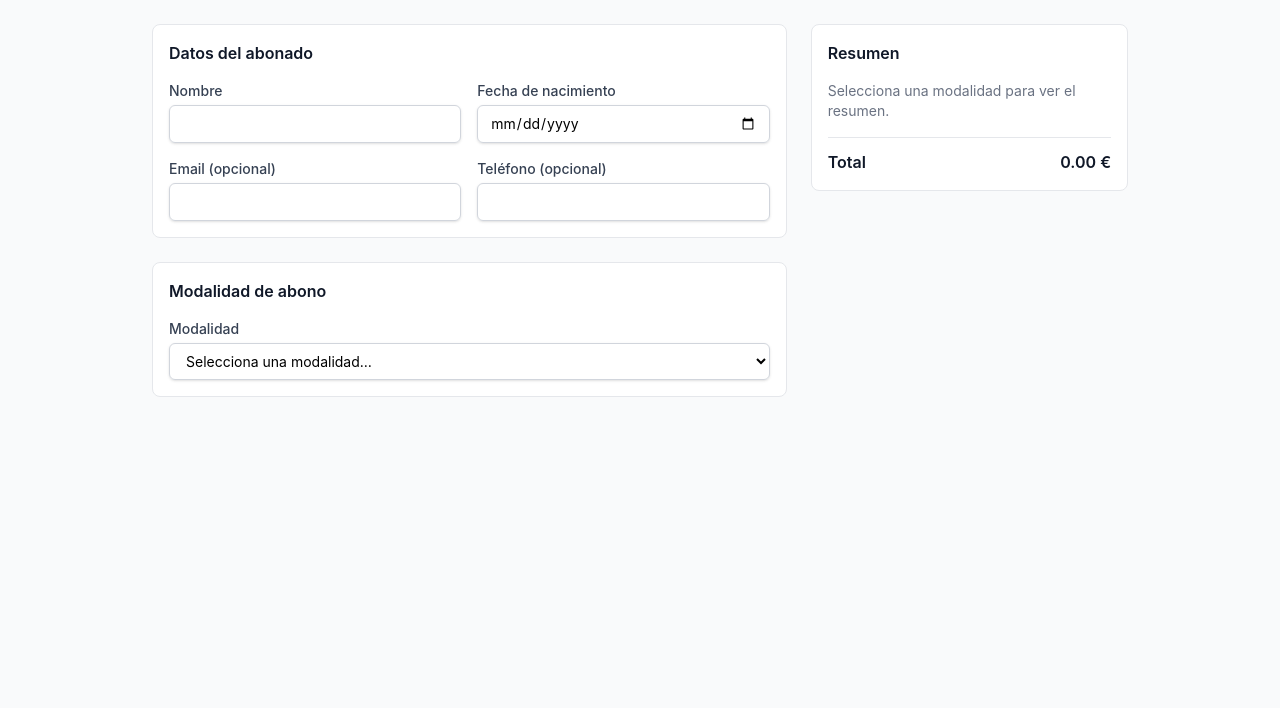
Test: QuoteForm (integración) › sumar un extra al caso dorado actualiza el total general
This screenshot has width=1280, height=708.
Select "Golf Son Muntaner (SM) — 4400 €" in the dropdown labelled "Modalidad" at [469, 362], box left=169, top=343, right=770, bottom=380
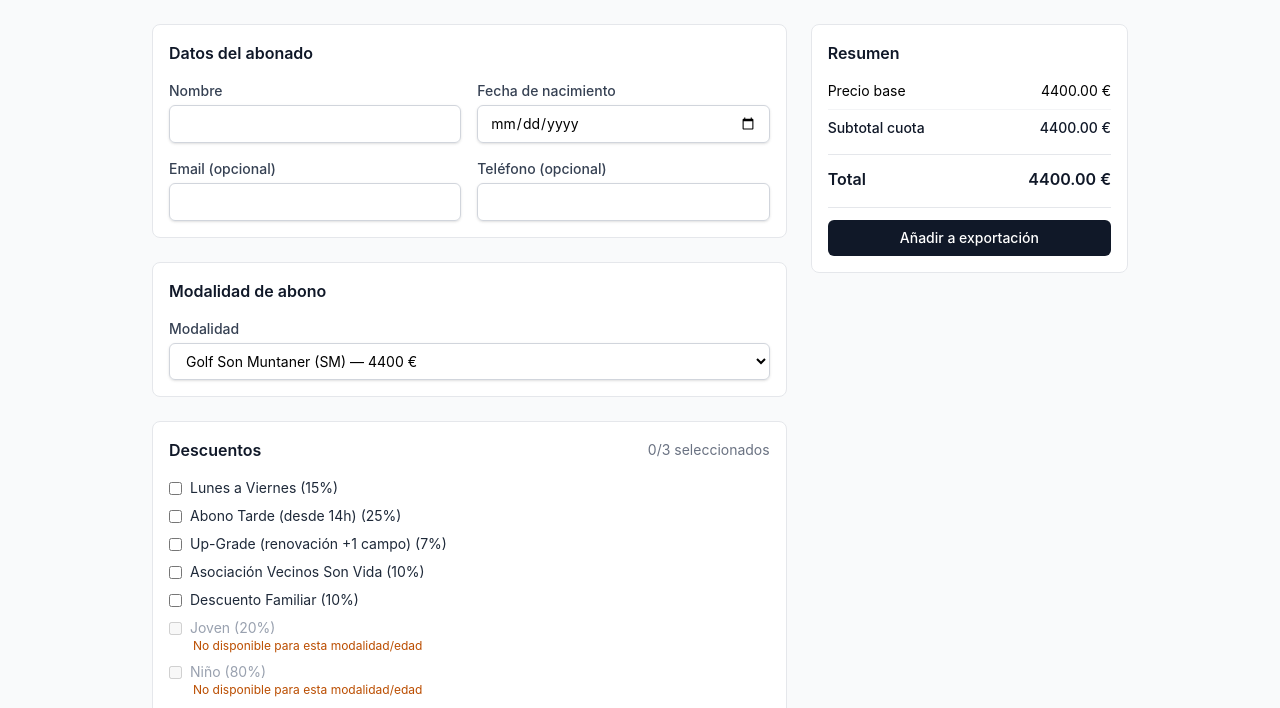
Click the checkbox labelled "Lunes a Viernes (15%)".
click(176, 488)  # box left=169, top=482, right=182, bottom=494
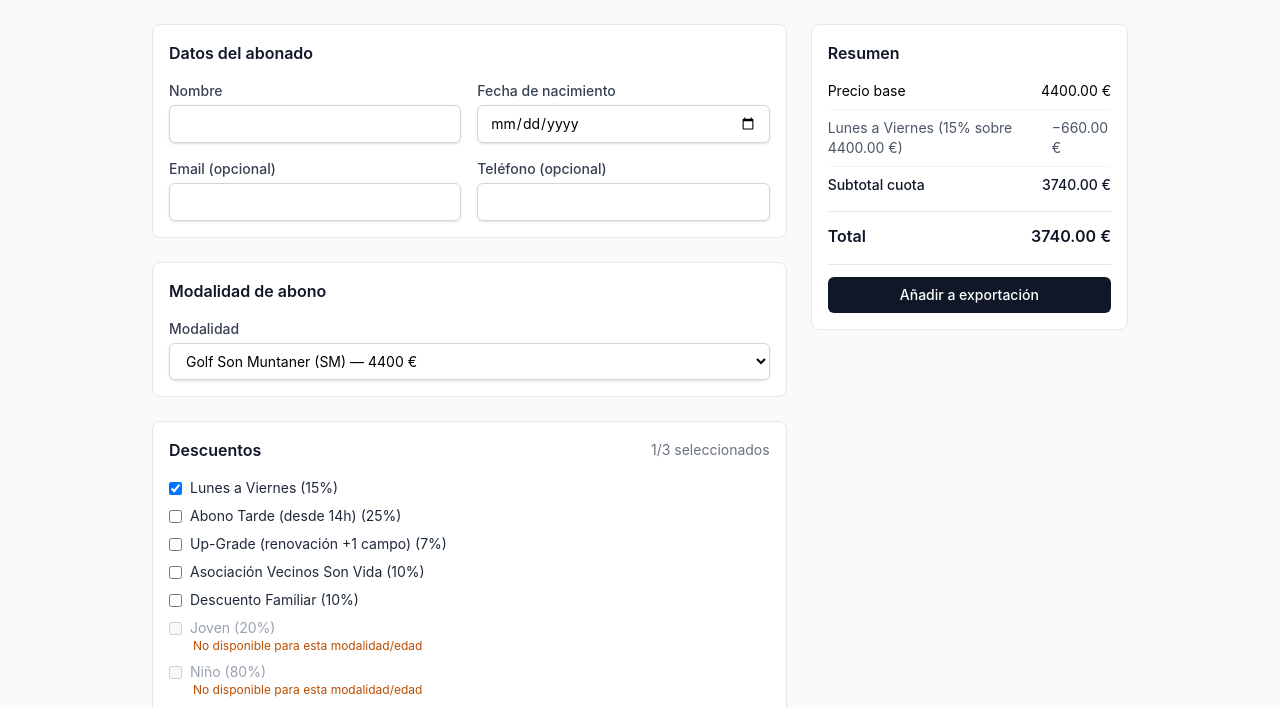
Click the checkbox labelled "Abono Tarde (desde 14h) (25%)".
click(176, 516)  # box left=169, top=510, right=182, bottom=522
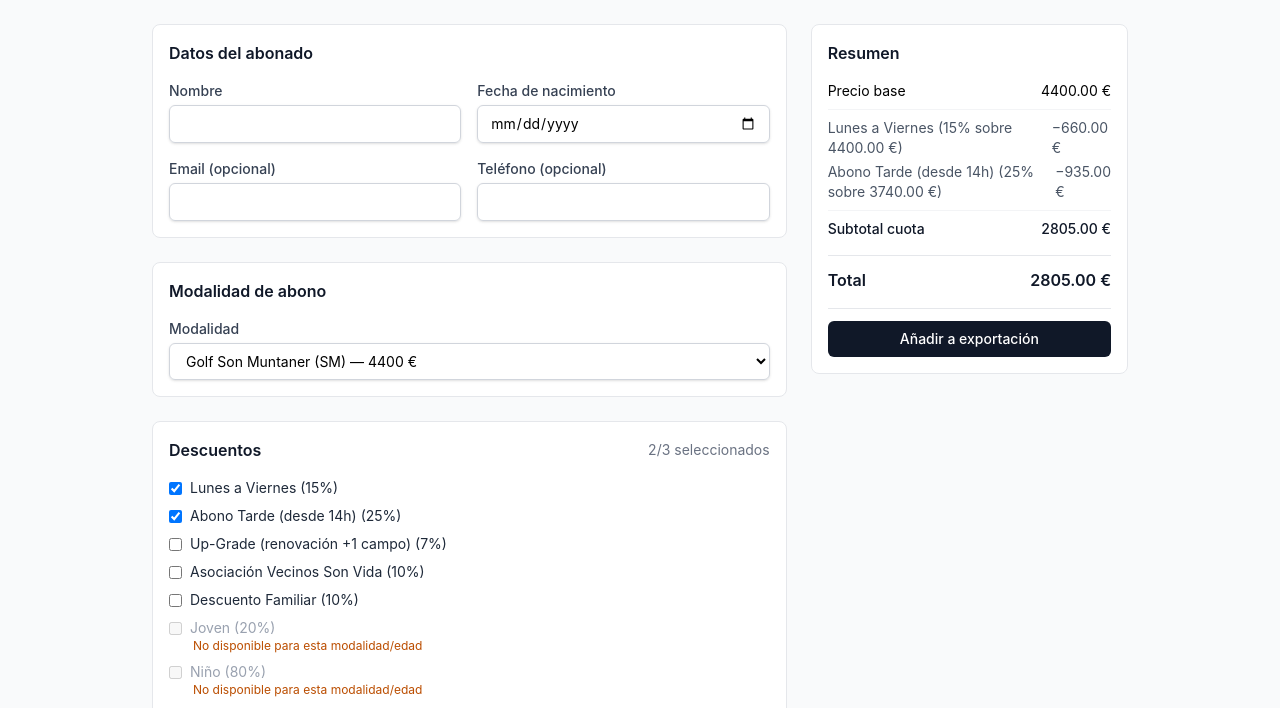
Click the checkbox labelled "Descuento Familiar (10%)".
click(176, 600)  # box left=169, top=594, right=182, bottom=606
(page scrolled)
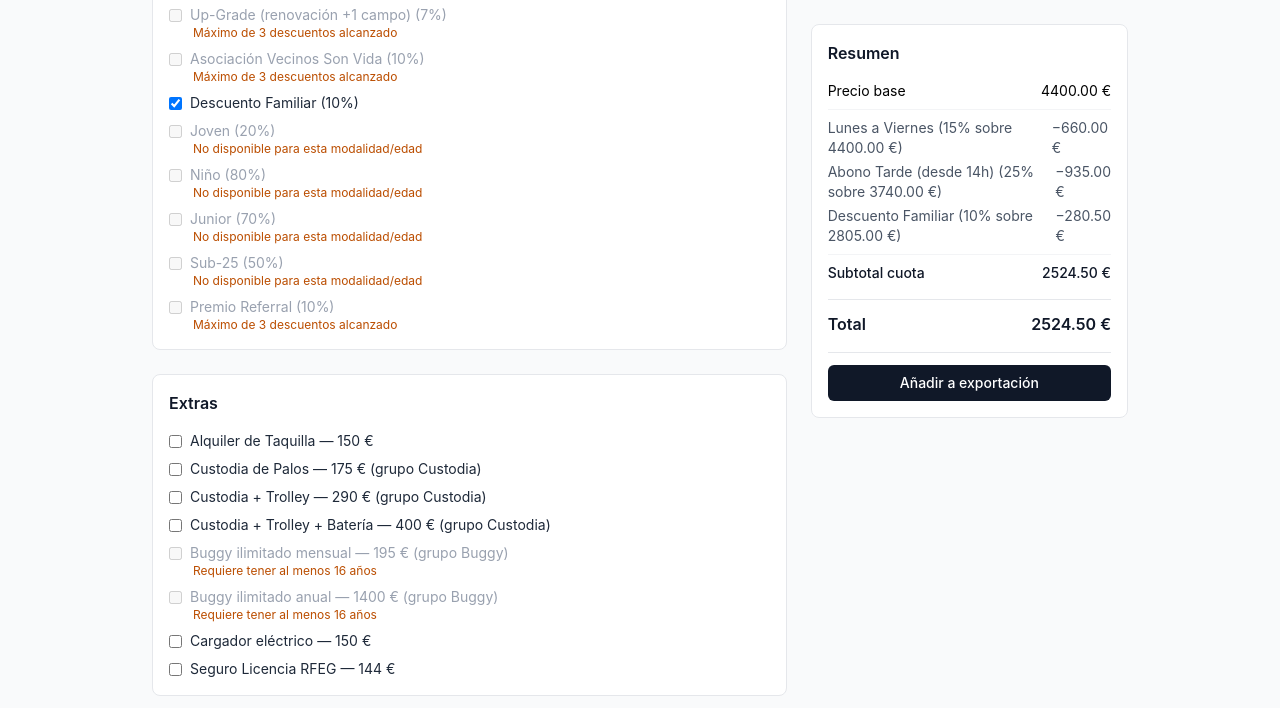
Click the checkbox labelled "Alquiler de Taquilla — 150 €".
click(176, 441)  # box left=169, top=434, right=182, bottom=448
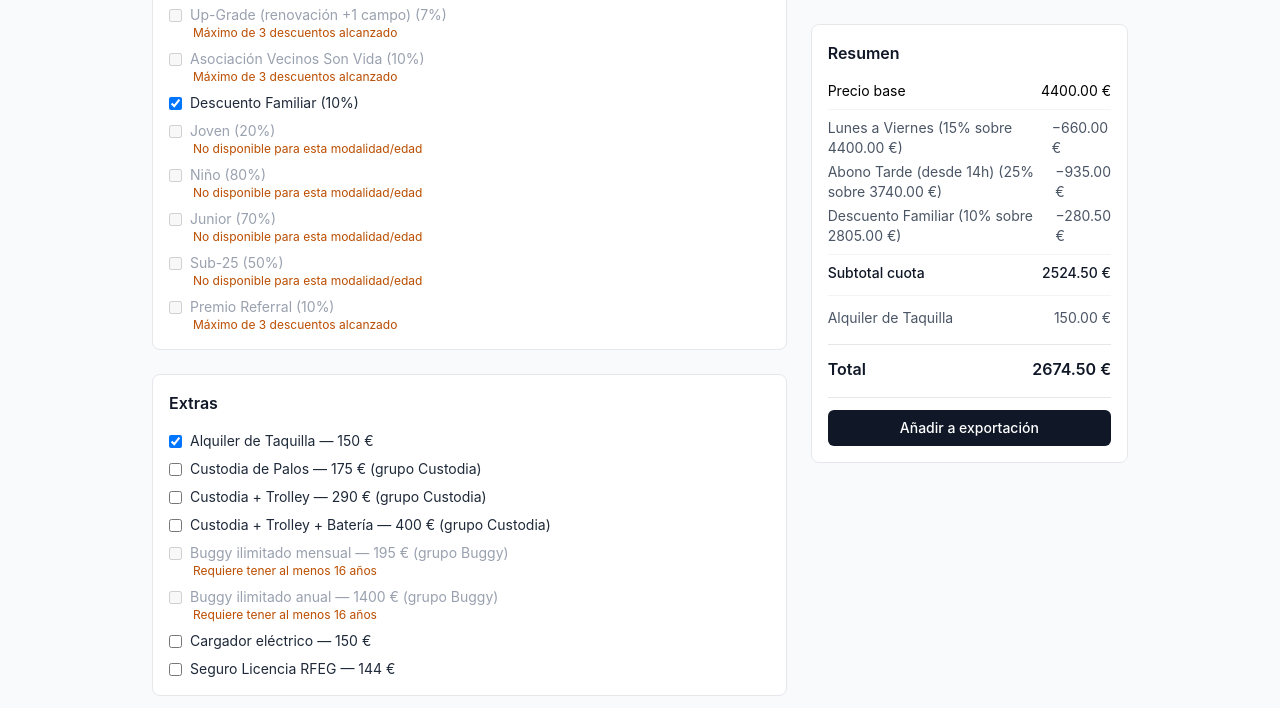
expect the text "2674.50 €" is shown: met, box left=1032, top=357, right=1111, bottom=381
